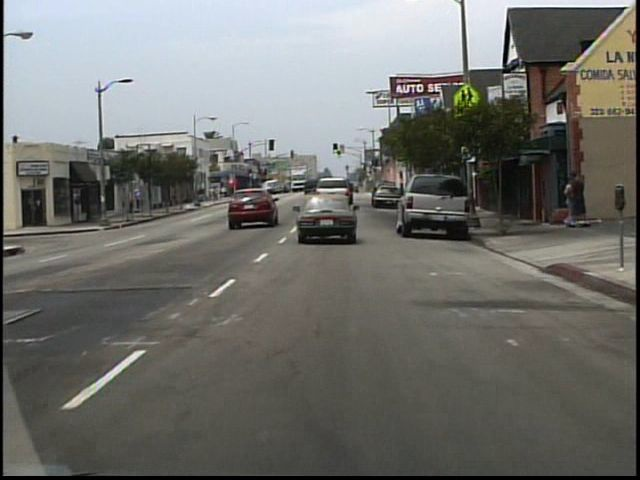person: (569, 168, 591, 228), (562, 176, 580, 229), (134, 187, 145, 214)
